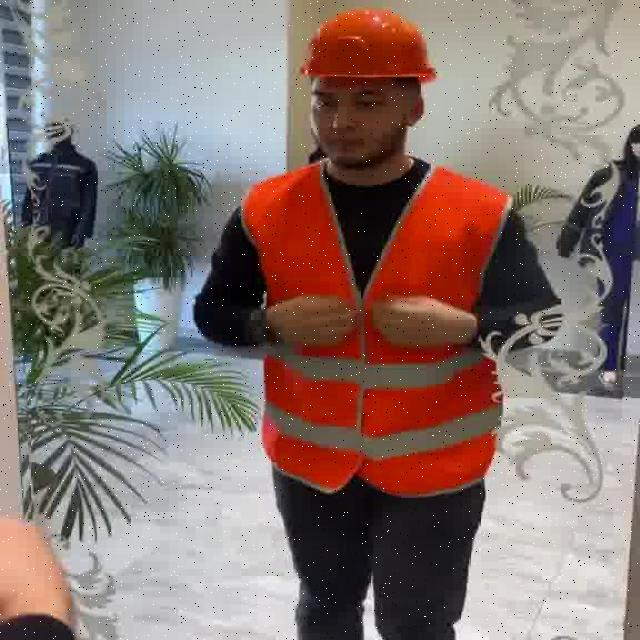Hard_hat: (284, 2, 447, 102)
Person: (170, 7, 526, 640)
Vest: (247, 164, 489, 504)
